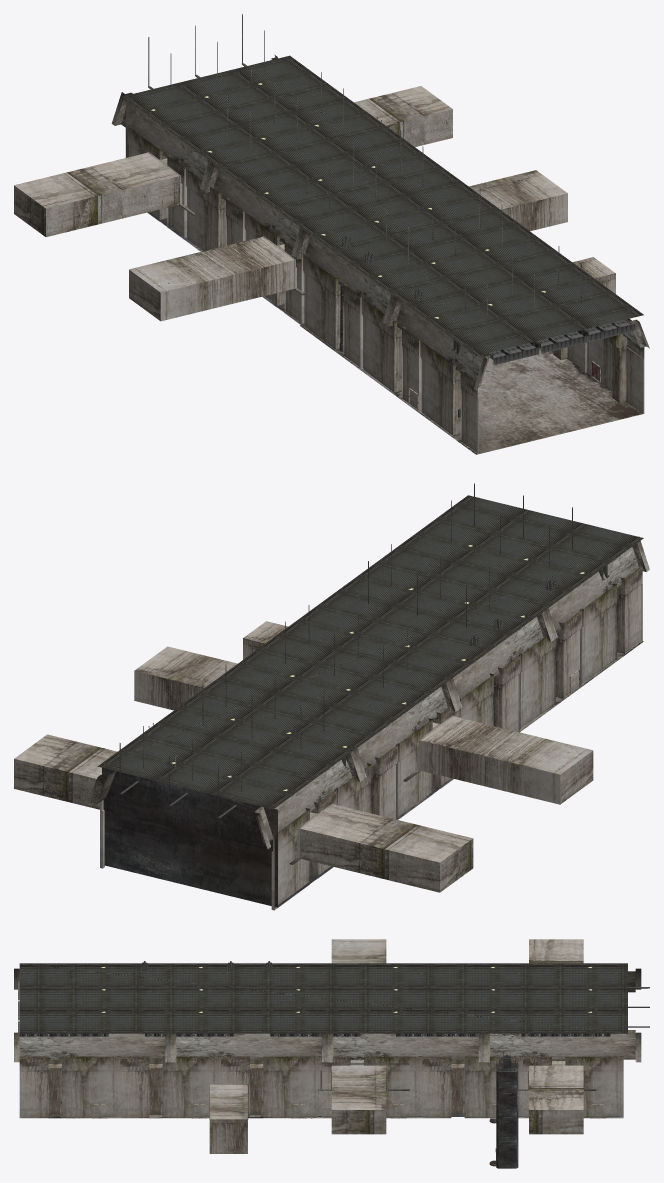
The model's file is old_factory.obj.
The picture shows the model from 3 angles, top to bottom: view 1: azimuth 30°, elevation 25°; view 2: azimuth 150°, elevation 25°; view 3: azimuth 270°, elevation 25°; orthographic projection. The views are drawn at different scales.
Visible parts, largest first — view 1: Plane.005_Material.005_0, Plane.004_Material.002_0, Plane.001_Material.002_0, Plane_Material.001_0, Plane.012_Material.001_0, Plane.006_Material.006_0, Cube.020_Material.006_0, Cube.001_Material.002_0; view 2: Plane.005_Material.005_0, Plane.004_Material.002_0, Plane.014_Material.003_0, Plane.012_Material.001_0, Plane.001_Material.002_0, Cube.020_Material.006_0, Cube.001_Material.002_0; view 3: Plane.005_Material.005_0, Plane.001_Material.002_0, Plane.012_Material.001_0, Plane.004_Material.002_0, Cube.001_Material.002_0, factory_tube_03.001_Material.003_0, Plane.006_Material.006_0.
Part boxes in pixels (left/top/right/bottom): Plane.005_Material.005_0: left=122, top=55, right=643, bottom=355; Plane.004_Material.002_0: left=14, top=125, right=478, bottom=454; Plane.001_Material.002_0: left=354, top=86, right=644, bottom=413; Plane_Material.001_0: left=300, top=325, right=642, bottom=454; Plane.012_Material.001_0: left=111, top=55, right=649, bottom=390; Plane.006_Material.006_0: left=488, top=318, right=634, bottom=365; Cube.020_Material.006_0: left=148, top=14, right=581, bottom=325; Cube.001_Material.002_0: left=572, top=257, right=615, bottom=293; Plane.005_Material.005_0: left=98, top=495, right=643, bottom=809; Plane.004_Material.002_0: left=271, top=566, right=642, bottom=910; Plane.014_Material.003_0: left=102, top=768, right=277, bottom=907; Plane.012_Material.001_0: left=87, top=536, right=649, bottom=848; Plane.001_Material.002_0: left=14, top=646, right=237, bottom=868; Cube.020_Material.006_0: left=119, top=483, right=572, bottom=818; Cube.001_Material.002_0: left=243, top=621, right=287, bottom=659; Plane.005_Material.005_0: left=19, top=963, right=627, bottom=1033; Plane.001_Material.002_0: left=19, top=1056, right=623, bottom=1134; Plane.012_Material.001_0: left=14, top=968, right=641, bottom=1062; Plane.004_Material.002_0: left=331, top=939, right=583, bottom=963; Cube.001_Material.002_0: left=209, top=1084, right=247, bottom=1153; factory_tube_03.001_Material.003_0: left=489, top=1052, right=518, bottom=1168; Plane.006_Material.006_0: left=18, top=981, right=610, bottom=1036.
Size of the model in its own units: 11.42 by 4.95 by 18.
Materials: 11 (10 with a texture image).
